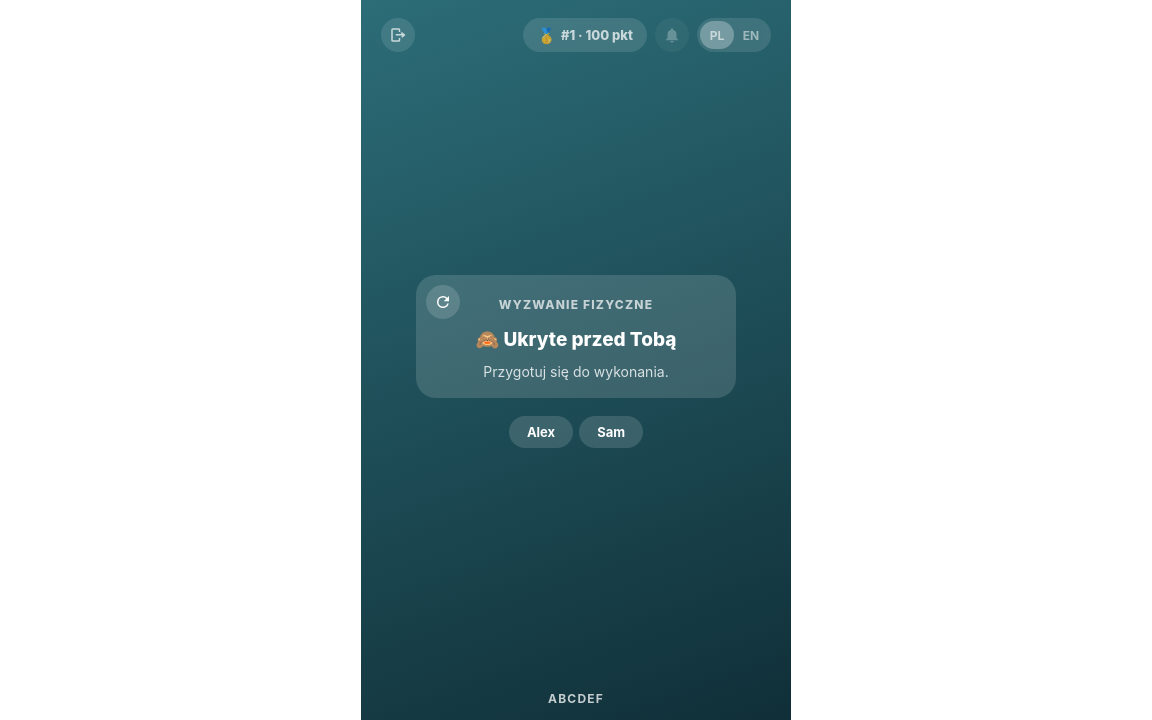
Test: Leaderboard disconnected marker › leaves the disconnected Guest active, with the usual menu
Step 1. Click the button "🥇 #1 · 100 pkt" → (585, 35), box [523,18,647,52]
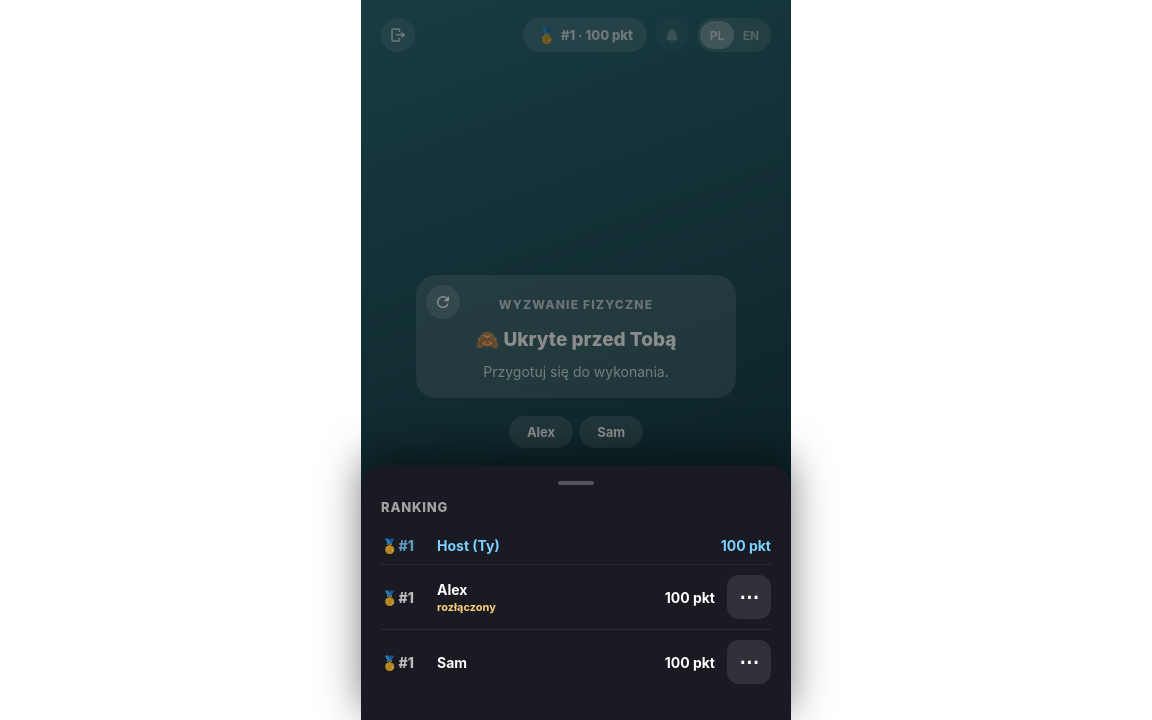
Step 2. Click the button "⋯" in the row of "rozłączony" → (749, 597), box [727,575,771,619]
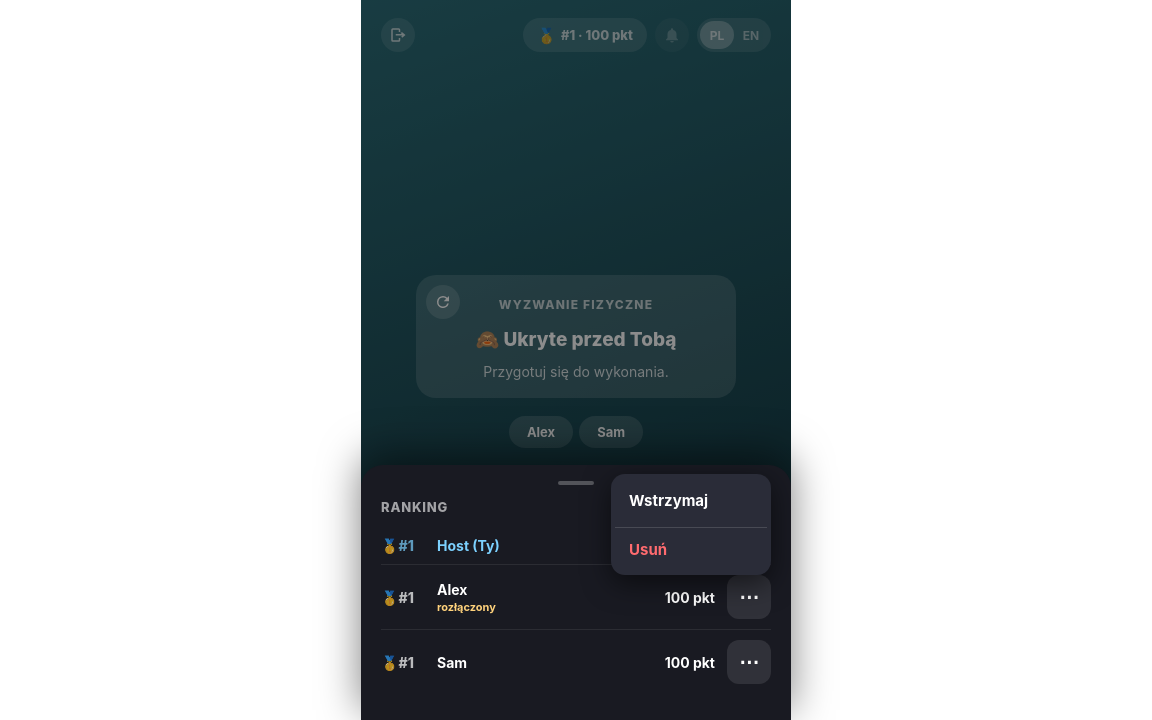
Expected: the menu items read "Wstrzymaj", "Usuń", in this order, [615,478,767,522]; [615,527,767,571]
